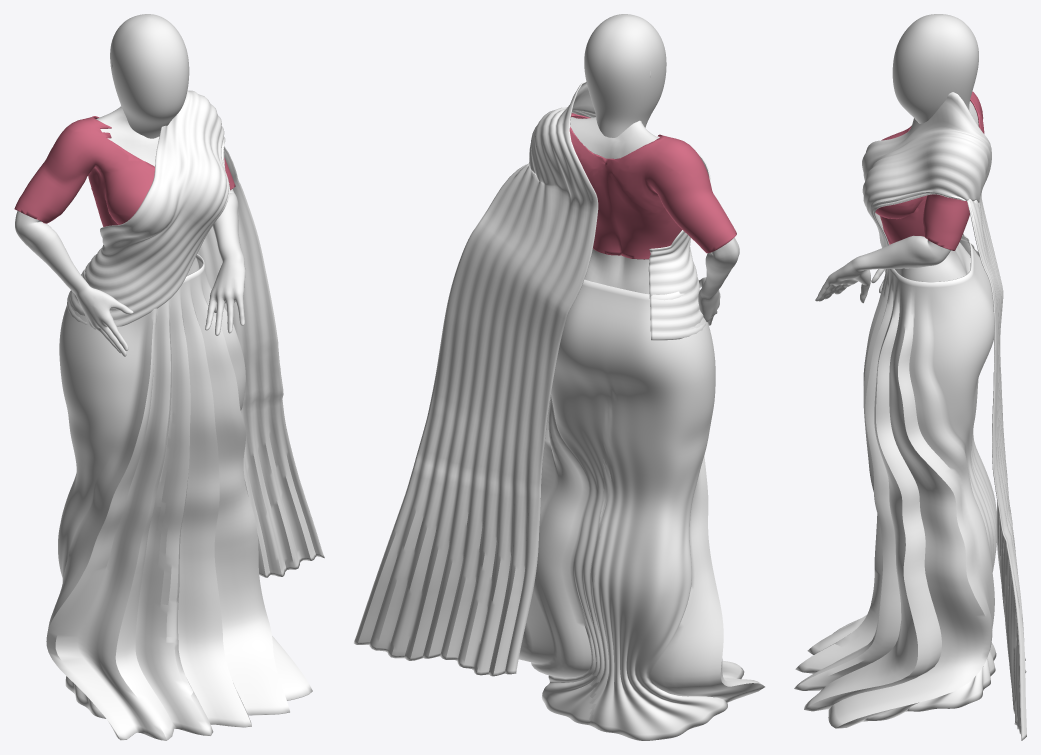
File: VP_Sarees_Mannequin_SAREE_0_2.glb
The picture shows the model from 3 angles, left to right: view 1: azimuth 30°, elevation 25°; view 2: azimuth 150°, elevation 25°; view 3: azimuth 270°, elevation 25°; orthographic projection. The views are drawn at different scales.
Parts seen in each view (by area): view 1: VP_Saree_Wrap, VP_Saree_Pallu, Low_Body, VP_Blouse, MannequinHead; view 2: VP_Saree_Wrap, VP_Saree_Pallu, VP_Blouse, MannequinHead, Low_Body; view 3: VP_Saree_Wrap, VP_Saree_Pallu, MannequinHead, Low_Body, VP_Blouse.
Part boxes in pixels (x1=…): VP_Saree_Wrap: x1=46, y1=254, x2=312, y2=740; VP_Saree_Pallu: x1=67, y1=90, x2=324, y2=577; Low_Body: x1=15, y1=63, x2=245, y2=356; VP_Blouse: x1=14, y1=116, x2=235, y2=226; MannequinHead: x1=110, y1=14, x2=189, y2=138; VP_Saree_Wrap: x1=518, y1=279, x2=764, y2=740; VP_Saree_Pallu: x1=353, y1=81, x2=710, y2=676; VP_Blouse: x1=569, y1=113, x2=736, y2=259; MannequinHead: x1=584, y1=14, x2=666, y2=137; Low_Body: x1=570, y1=71, x2=739, y2=325; VP_Saree_Wrap: x1=794, y1=240, x2=996, y2=728; VP_Saree_Pallu: x1=862, y1=92, x2=1026, y2=740; MannequinHead: x1=892, y1=14, x2=978, y2=123; Low_Body: x1=815, y1=101, x2=978, y2=303; VP_Blouse: x1=875, y1=91, x2=984, y2=250.
Size of the model in its own units: 12.89 by 24.24 by 7.73.
